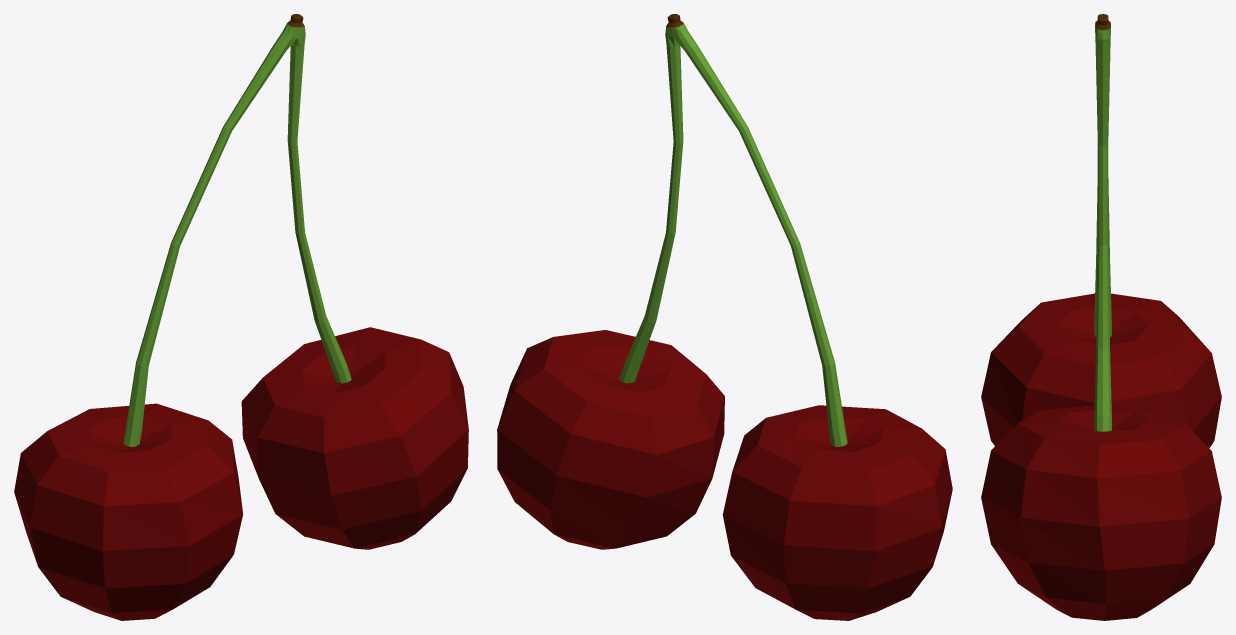
Rendered from cherry.glb.
3 renders of one model, left to right at view 1: azimuth 30°, elevation 25°; view 2: azimuth 150°, elevation 25°; view 3: azimuth 270°, elevation 25°, orthographic. The views are drawn at different scales.
Visible parts, largest first — view 1: node-0; view 2: node-0; view 3: node-0.
Boxes of the visible parts, box(x1,y1,x2,y2) form: node-0: box(14, 14, 468, 620); node-0: box(497, 14, 952, 620); node-0: box(981, 14, 1221, 620).
Bounding box in the file's own units: 4.18 × 5.13 × 1.94.
